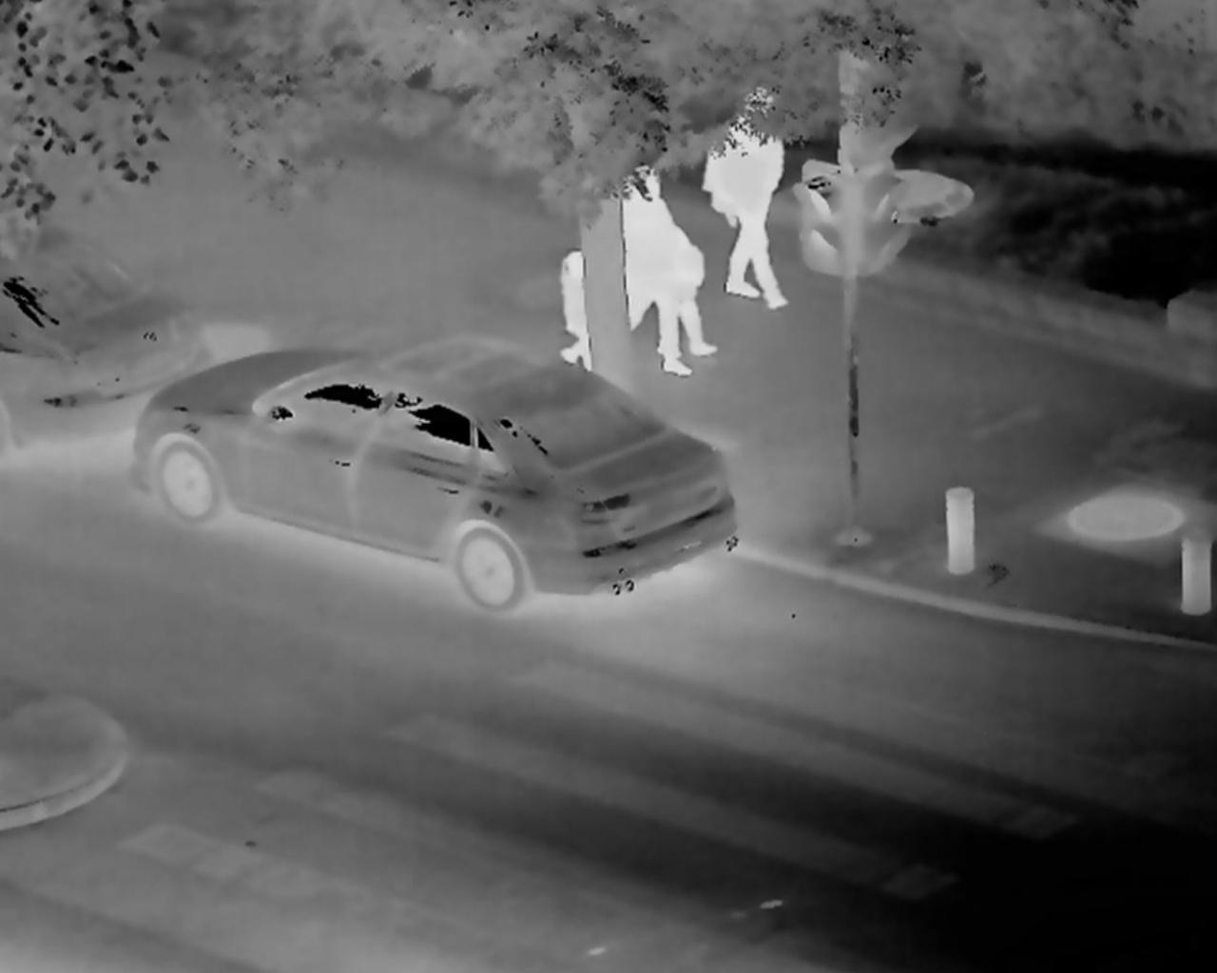person: (717, 91, 800, 313), (609, 168, 669, 378), (663, 221, 718, 367), (554, 257, 606, 364)
